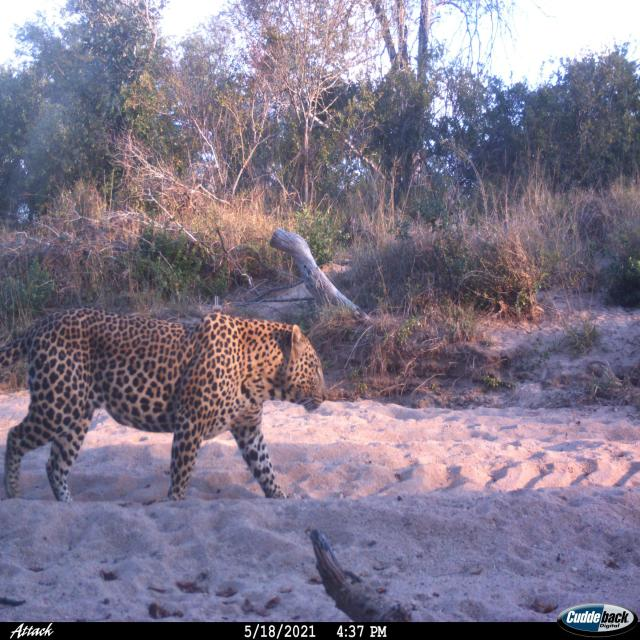Leopard: (0, 293, 333, 519)
